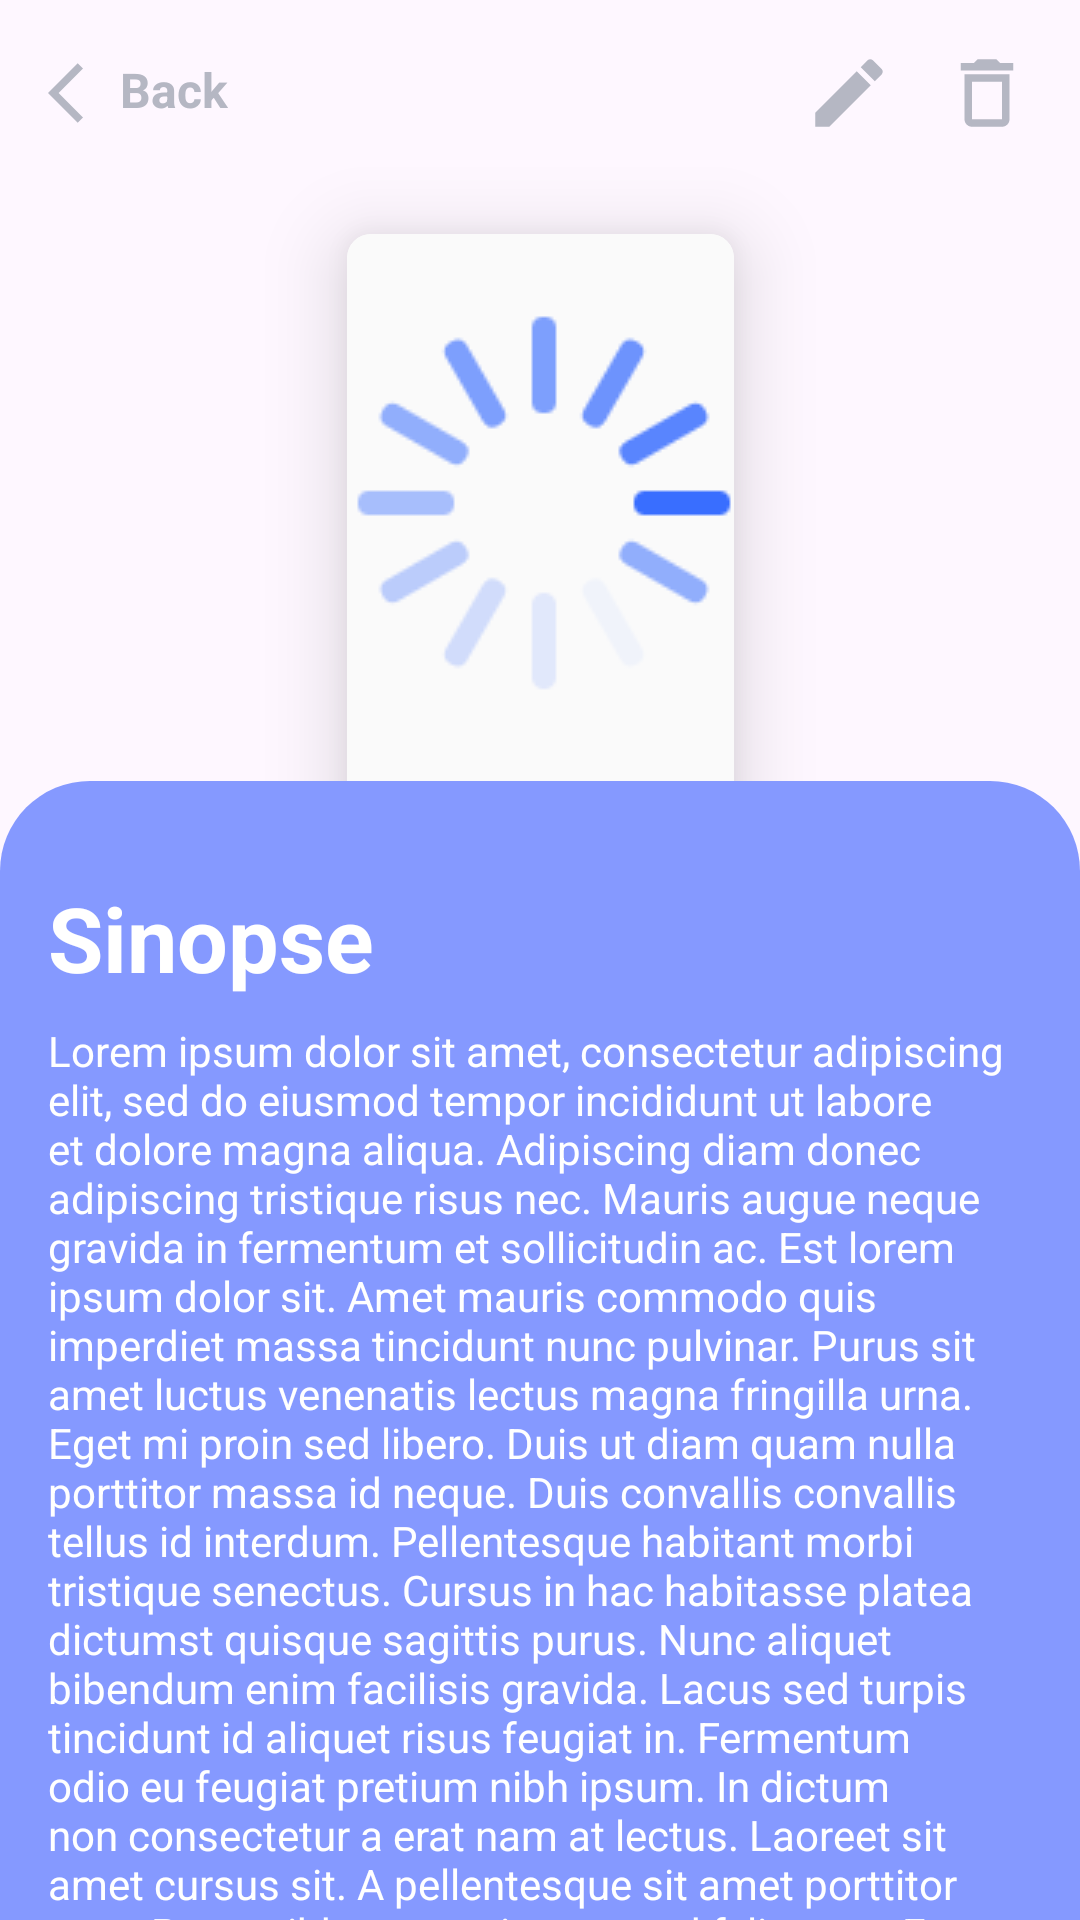

Screen size 1080x1920. Icon name, then its center in pixels as (x,y):
delete: (987,93)
edit: (849,93)
